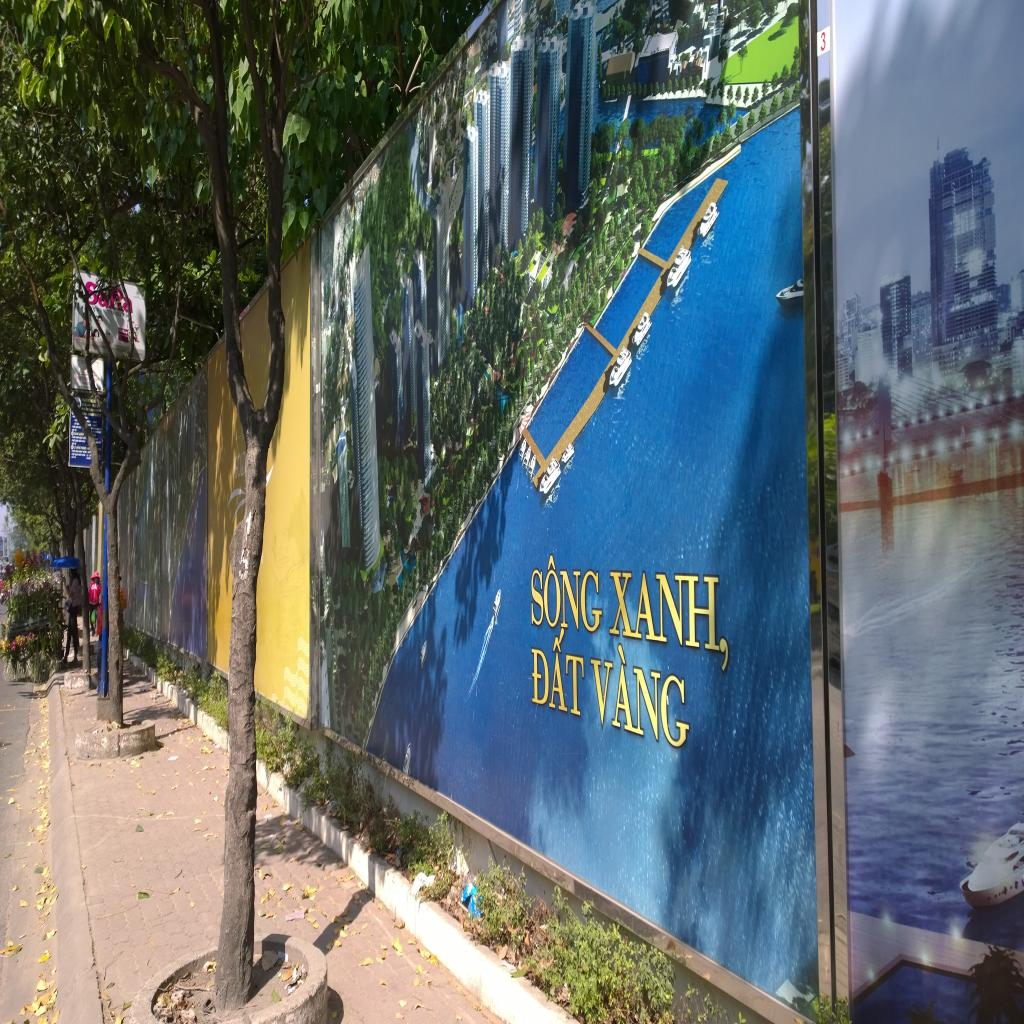text: (606, 562, 732, 680), (590, 633, 693, 755), (528, 549, 603, 633), (527, 623, 588, 720), (234, 449, 246, 481), (819, 31, 828, 54), (115, 310, 126, 318), (102, 308, 110, 315), (74, 374, 82, 381), (97, 306, 103, 314), (82, 403, 91, 408), (82, 376, 89, 382), (94, 378, 100, 384), (88, 398, 94, 404), (110, 309, 115, 316), (82, 397, 88, 402), (79, 432, 84, 437), (81, 446, 87, 450), (76, 445, 80, 450), (73, 446, 77, 450), (94, 399, 96, 403)
